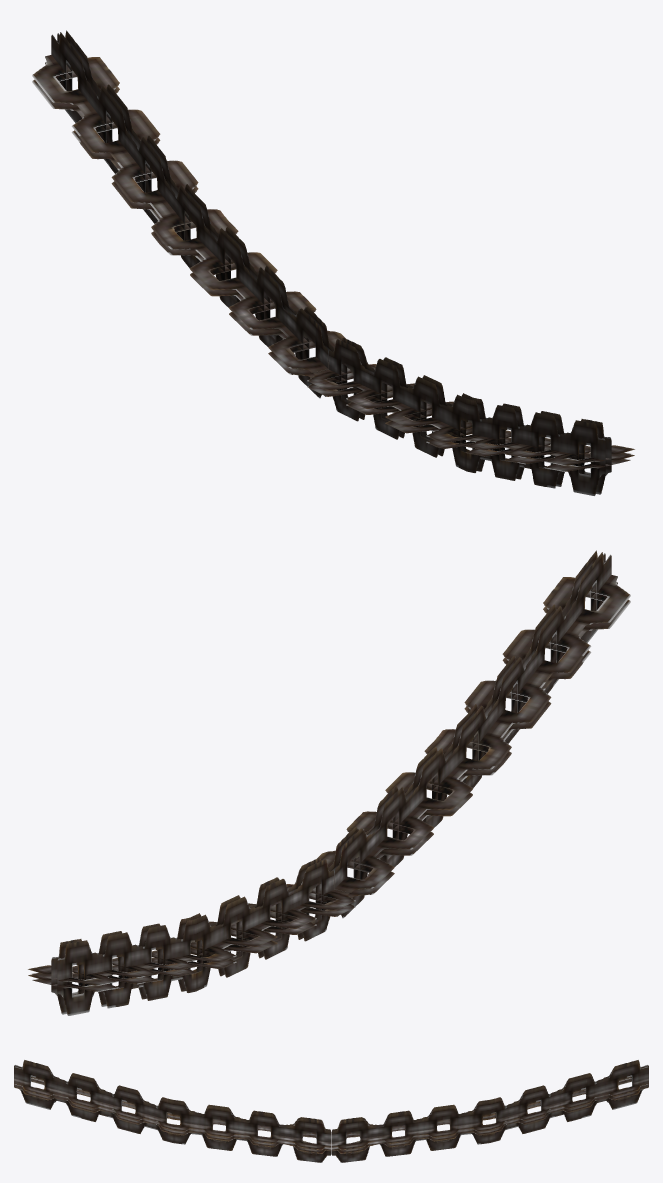
File: Scene_suolian.FBX
3 renders of one model, top to bottom at view 1: azimuth 30°, elevation 25°; view 2: azimuth 150°, elevation 25°; view 3: azimuth 270°, elevation 25°, orthographic. The views are drawn at different scales.
Visible parts, largest first — view 1: Scene_suolian; view 2: Scene_suolian; view 3: Scene_suolian.
Boxes of the visible parts, x1,y1,x2,y2 form: Scene_suolian: [32, 30, 634, 495]; Scene_suolian: [28, 550, 630, 1015]; Scene_suolian: [14, 1060, 648, 1162].
Size of the model in its own units: 0.6155 by 1.43 by 7.31.
